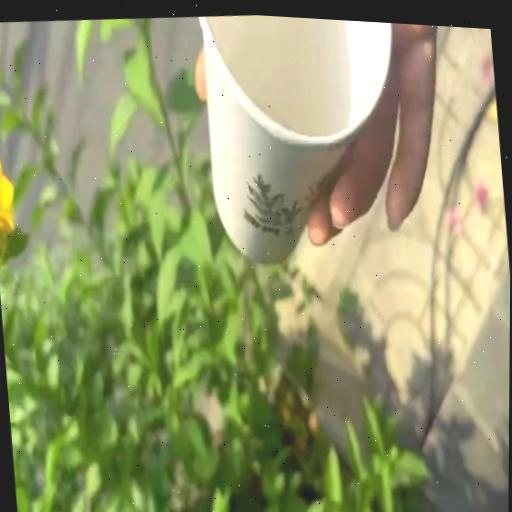ly_giay: (199, 15, 391, 263)
